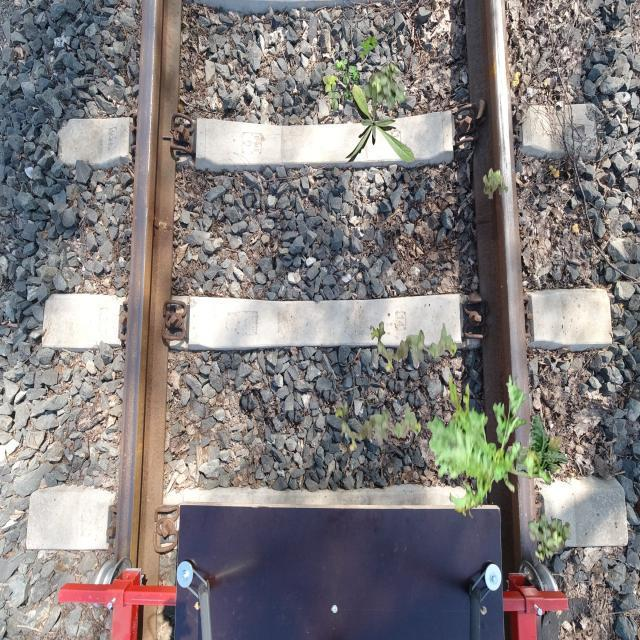Plant: (427, 372, 552, 519), (343, 83, 414, 164), (335, 400, 422, 452), (371, 321, 458, 372), (505, 412, 568, 474), (528, 513, 572, 563), (363, 61, 406, 111), (323, 56, 360, 111), (483, 168, 509, 200), (359, 34, 378, 58)
